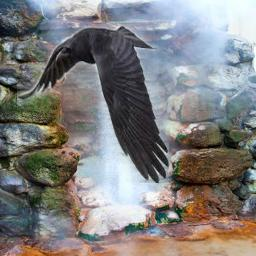Crow: (17, 24, 169, 183)
